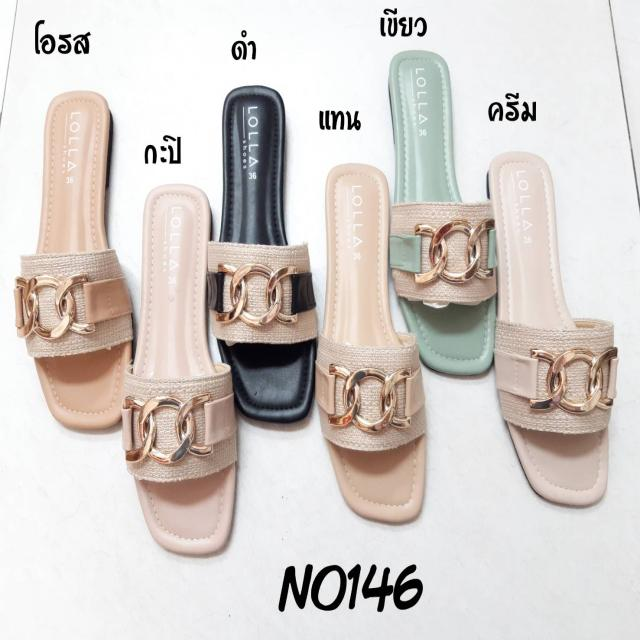black: (220, 90, 314, 410)
cream: (486, 150, 610, 500)
green: (388, 51, 497, 372)
kapi: (136, 187, 235, 546)
orot: (31, 91, 134, 427)
tan: (319, 170, 425, 520)
